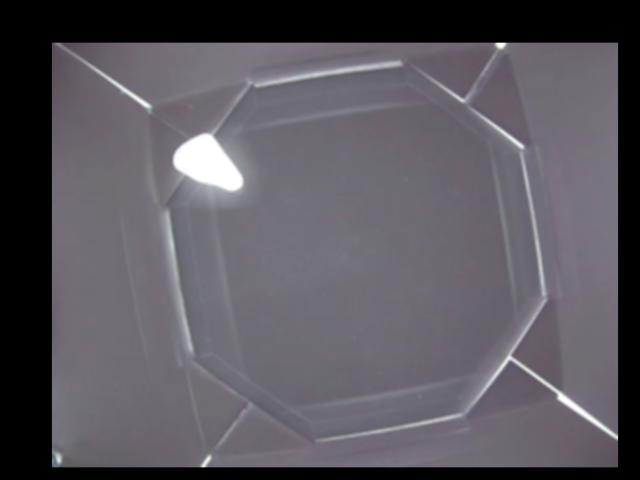Pebble: (171, 132, 243, 193)
